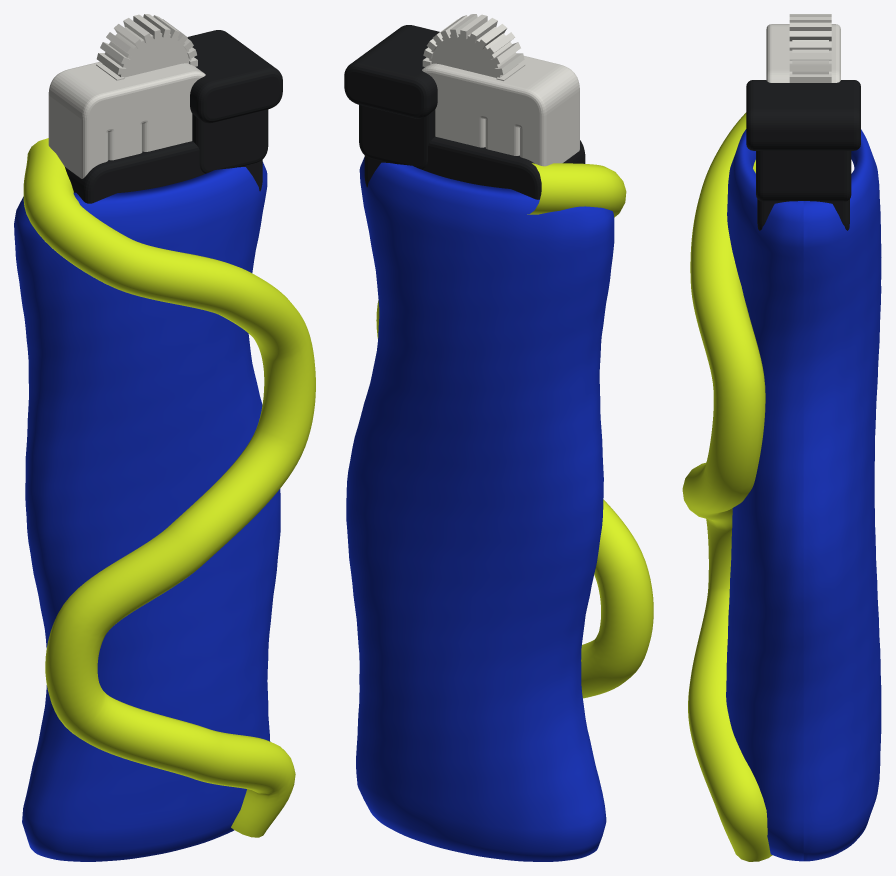
Rendered from oddhaus-lighter.glb.
The picture shows the model from 3 angles, left to right: view 1: azimuth 30°, elevation 25°; view 2: azimuth 150°, elevation 25°; view 3: azimuth 270°, elevation 25°; orthographic projection.
Parts seen in each view (by area): view 1: Cover, PaintDetail, MetalTop, LighterBody; view 2: Cover, MetalTop, LighterBody, PaintDetail; view 3: Cover, PaintDetail, LighterBody, MetalTop.
Boxes of the visible parts, <box> form: Cover: <box>14,162,280,861</box>; PaintDetail: <box>23,138,315,837</box>; MetalTop: <box>48,14,205,178</box>; LighterBody: <box>65,30,282,203</box>; Cover: <box>346,157,614,861</box>; MetalTop: <box>422,14,579,166</box>; LighterBody: <box>344,25,585,199</box>; PaintDetail: <box>376,163,653,698</box>; Cover: <box>726,129,881,861</box>; PaintDetail: <box>682,112,772,861</box>; LighterBody: <box>746,80,860,230</box>; MetalTop: <box>766,14,840,82</box>.
Bounding box in the file's own units: 0.031 × 0.09 × 0.0202.
